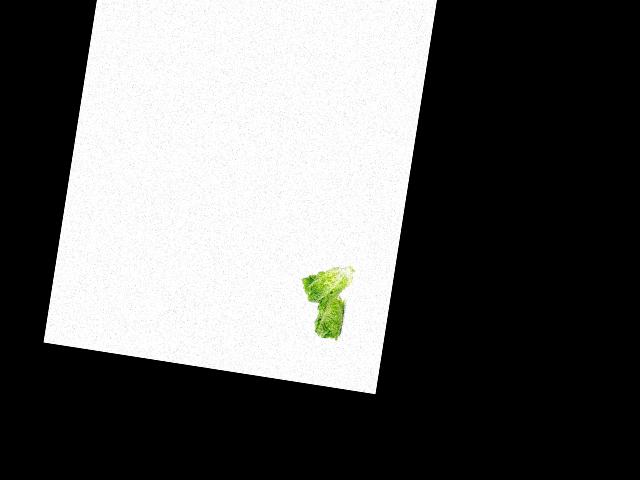lettuce: (299, 257, 359, 314)
